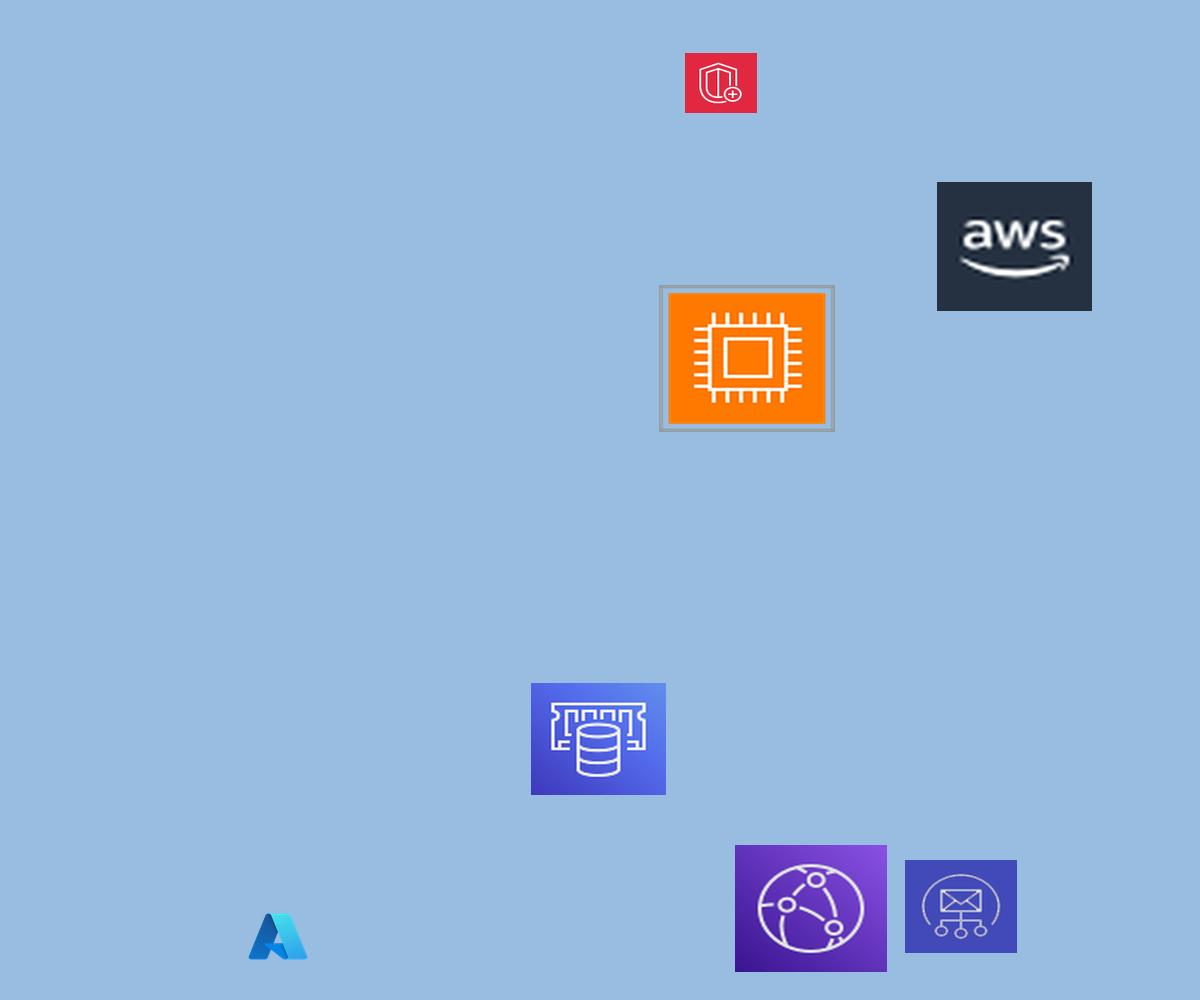AWS-Category_Compute: (659, 285, 835, 432)
AWS-Cloud-logo: (937, 182, 1092, 311)
AWS-CloudFront: (735, 845, 887, 972)
AWS-ElastiCache: (531, 683, 666, 795)
AWS-Shield: (685, 53, 757, 113)
AWS-Simple-Email-Service: (905, 860, 1017, 953)
Azure_services: (246, 910, 310, 963)
